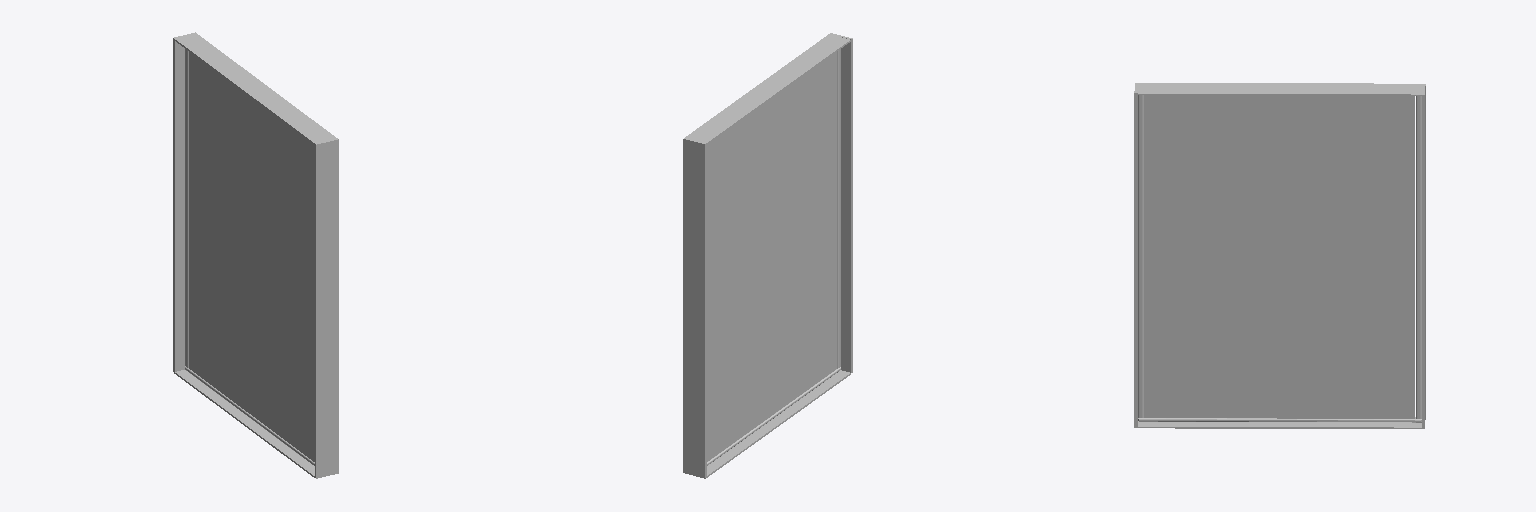
The model's file is Ventana4.obj.
3 renders of one model, left to right at view 1: azimuth 30°, elevation 25°; view 2: azimuth 150°, elevation 25°; view 3: azimuth 270°, elevation 25°, orthographic.
Parts seen in each view (by area): view 1: polySurface76; view 2: polySurface76; view 3: polySurface76.
Part boxes in pixels (left/top/right/bottom): polySurface76: left=173, top=32, right=338, bottom=478; polySurface76: left=683, top=33, right=852, bottom=478; polySurface76: left=1134, top=83, right=1425, bottom=428.
Size of the model in its own units: 0.148 by 1.94 by 1.53.